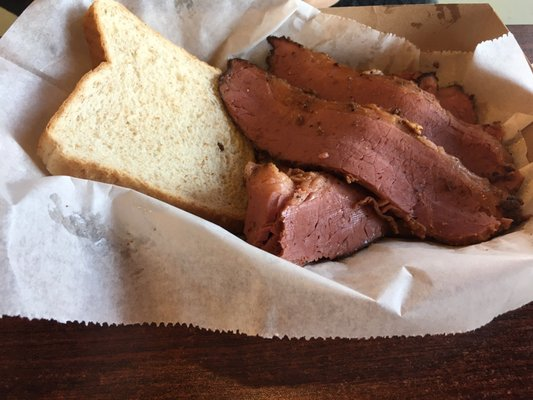soup: (36, 0, 254, 232)
